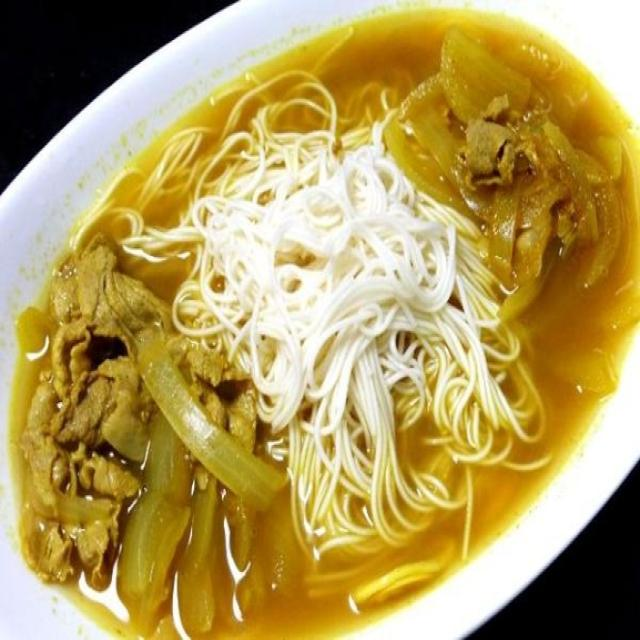面条主食: (5, 5, 638, 634)
